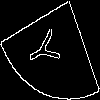Y: (25, 24, 68, 74)
